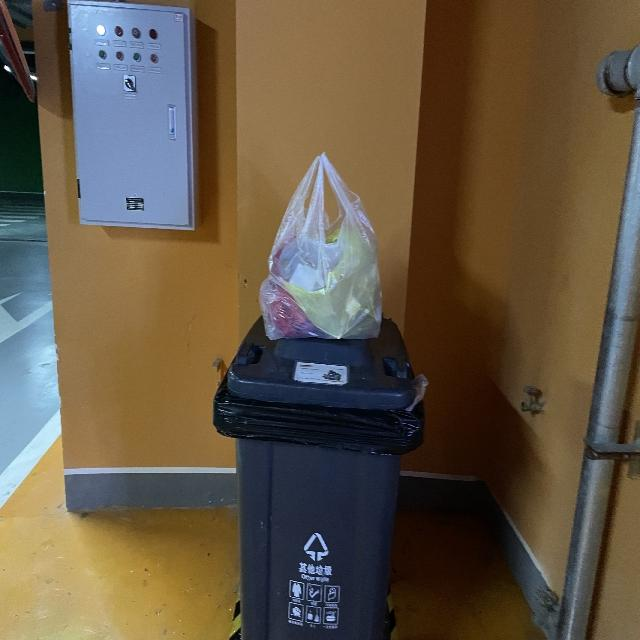overflow: (213, 151, 425, 639)
